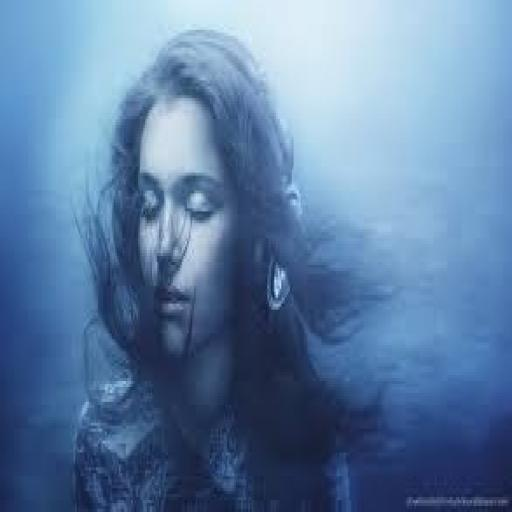listening_to_music: (70, 24, 374, 509)
